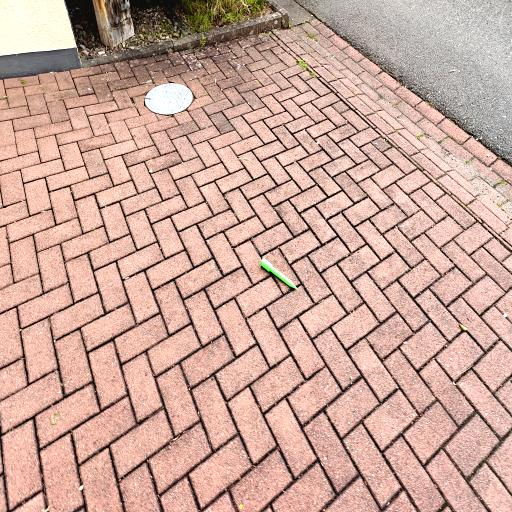Probe-Detection: (260, 258, 296, 289)
